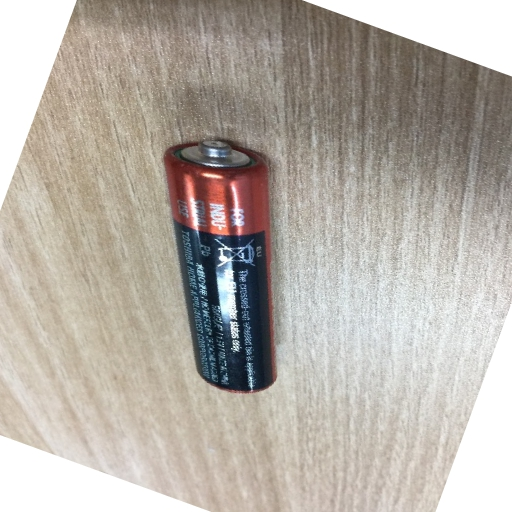Battery_0: (141, 120, 307, 416)
